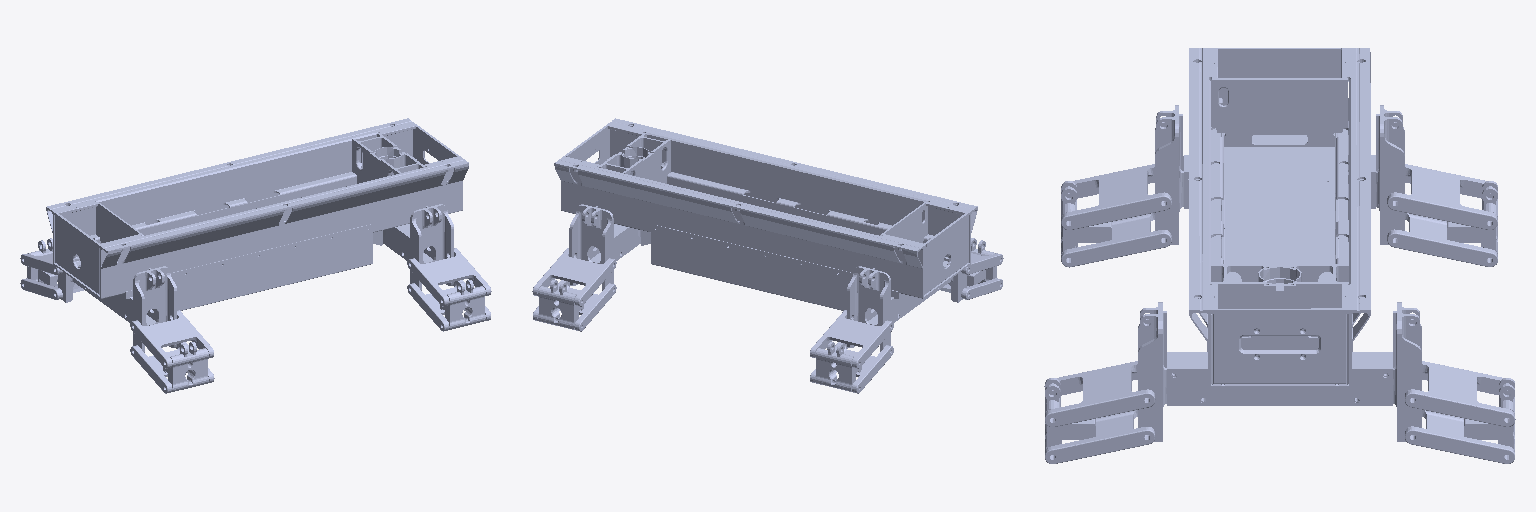
The robot description file, URDF, robot "segwayrmp_description":
<?xml version="1.0" encoding="utf-8"?>
<!-- This URDF was automatically created by SolidWorks to URDF Exporter! Originally created by [author] ([email redacted]) 
     Commit Version: 1.5.1-0-g916b5db  Build Version: 1.5.7152.31018
     For more information, please see http://wiki.ros.org/sw_urdf_exporter -->
<robot
  name="segwayrmp_description">
  <link name="base_link"/>
  <link
    name="Chassis_body">
    <inertial>
      <origin
        xyz="-0.033482 0.22487 0.0057368"
        rpy="0 0 1.57" />
      <mass
        value="1.5192" />
      <inertia
        ixx="0.048829"
        ixy="1.5025E-05"
        ixz="1.729E-06"
        iyy="0.0069994"
        iyz="-0.002399"
        izz="0.052057" />
    </inertial>
    <visual>
      <origin
        xyz="0 0 0"
        rpy="0 0 0" />
      <geometry>
        <mesh
          filename="package://segwayrmp_description/meshes/Chassis_body.STL" />
      </geometry>
      <material
        name="">
        <color
          rgba="0.79216 0.81961 0.93333 1" />
      </material>
    </visual>
    <collision>
      <origin
        xyz="0 0 0"
        rpy="0 0 0" />
      <geometry>
        <mesh
          filename="package://segwayrmp_description/meshes/Chassis_body.STL" />
      </geometry>
    </collision>
  </link>
  <joint name="base_joint" type="fixed">
    <origin xyz="0 0 0" rpy="0 0 -1.57" />
    <parent link="base_link"/>
    <child link="Chassis_body"/>
  </joint>

  <link
    name="Left_rear_wheel">
    <inertial>
      <origin
        xyz="-7.8407E-07 -2.4326E-05 0.002005"
        rpy="0 0 0" />
      <mass
        value="1.3121" />
      <inertia
        ixx="0.004883"
        ixy="-2.8757E-07"
        ixz="-1.4658E-07"
        iyy="0.0048836"
        iyz="-5.3568E-08"
        izz="0.0087354" />
    </inertial>
    <visual>
      <origin
        xyz="0 0 0"
        rpy="0 0 0" />
      <geometry>
        <mesh
          filename="package://segwayrmp_description/meshes/Wheel.STL" />
      </geometry>
      <material
        name="">
        <color
          rgba="0.79216 0.81961 0.93333 1" />
      </material>
    </visual>
    <collision>
      <origin
        xyz="0 0 0"
        rpy="0 0 0" />
      <geometry>
        <mesh
          filename="package://segwayrmp_description/meshes/Wheel.STL" />
      </geometry>
    </collision>
  </link>
  <joint
    name="Left_rear_wheel"
    type="continuous">
    <origin
      xyz="-0.30884 0.04815 -0.080406"
      rpy="1.5708 0 1.5708" />
    <parent
      link="Chassis_body" />
    <child
      link="Left_rear_wheel" />
    <axis
      xyz="0 0 -1" />
  </joint>
  <link
    name="Right_rear_wheel">
    <inertial>
      <origin
        xyz="4.9952E-06 2.3117E-05 0.0019578"
        rpy="0 0 0" />
      <mass
        value="1.313" />
      <inertia
        ixx="0.0048865"
        ixy="3.201E-07"
        ixz="1.7545E-07"
        iyy="0.0048869"
        iyz="-2.3207E-07"
        izz="0.0087402" />
    </inertial>
    <visual>
      <origin
        xyz="0 0 0"
        rpy="0 0 0" />
      <geometry>
        <mesh
          filename="package://segwayrmp_description/meshes/Wheel.STL" />
      </geometry>
      <material
        name="">
        <color
          rgba="0.79216 0.81961 0.93333 1" />
      </material>
    </visual>
    <collision>
      <origin
        xyz="0 0 0"
        rpy="0 0 0" />
      <geometry>
        <mesh
          filename="package://segwayrmp_description/meshes/Wheel.STL" />
      </geometry>
    </collision>
  </link>
  <joint
    name="Right_rear_wheel"
    type="continuous">
    <origin
      xyz="0.24188 0.04815 -0.080406"
      rpy="1.5708 0 -1.5708" />
    <parent
      link="Chassis_body" />
    <child
      link="Right_rear_wheel" />
    <axis
      xyz="0 0 -1" />
  </joint>
  <link
    name="Chassis_front_beam">
    <inertial>
      <origin
        xyz="-8.6161E-10 3.9501E-05 0.0062593"
        rpy="0 0 0" />
      <mass
        value="0.48416" />
      <inertia
        ixx="0.00050823"
        ixy="-1.2209E-08"
        ixz="4.3336E-11"
        iyy="0.0023652"
        iyz="2.6588E-07"
        izz="0.0023821" />
    </inertial>
    <visual>
      <origin
        xyz="0 0 0"
        rpy="0 0 0" />
      <geometry>
        <mesh
          filename="package://segwayrmp_description/meshes/Chassis_front_beam.STL" />
      </geometry>
      <material
        name="">
        <color
          rgba="0.79216 0.81961 0.93333 1" />
      </material>
    </visual>
    <collision>
      <origin
        xyz="0 0 0"
        rpy="0 0 0" />
      <geometry>
        <mesh
          filename="package://segwayrmp_description/meshes/Chassis_front_beam.STL" />
      </geometry>
    </collision>
  </link>
  <joint
    name="Chassis_front_beam"
    type="revolute">
    <origin
      xyz="-0.0335 0.504 -0.0515"
      rpy="0 0 0" />
    <parent
      link="Chassis_body" />
    <child
      link="Chassis_front_beam" />
    <axis
      xyz="0 0 1" />
    <limit
      lower="-3.14"
      upper="3.14"
      effort="0"
      velocity="0" />
  </joint>
  <link
    name="Left_front_wheel">
    <inertial>
      <origin
        xyz="-7.0112E-05 8.4133E-05 0.54476"
        rpy="0 0 0" />
      <mass
        value="1.2504" />
      <inertia
        ixx="0.0046772"
        ixy="1.3239E-07"
        ixz="2.8374E-07"
        iyy="0.0046777"
        iyz="1.339E-07"
        izz="0.0086591" />
    </inertial>
    <visual>
      <origin
        xyz="0 0 0"
        rpy="0 0 0" />
      <geometry>
        <mesh
          filename="package://segwayrmp_description/meshes/Wheel.STL" />
      </geometry>
      <material
        name="">
        <color
          rgba="0.79216 0.81961 0.93333 1" />
      </material>
    </visual>
    <collision>
      <origin
        xyz="0 0 0"
        rpy="0 0 0" />
      <geometry>
        <mesh
          filename="package://segwayrmp_description/meshes/Wheel.STL" />
      </geometry>
    </collision>
  </link>
  <joint
    name="Left_front_wheel"
    type="continuous">
    <origin
      xyz="0.27184 0.0001 -0.028906"
      rpy="1.5708 0 -1.5708" />
    <parent
      link="Chassis_front_beam" />
    <child
      link="Left_front_wheel" />
    <axis
      xyz="0 0 -1" />
  </joint>
  <link
    name="Right_front_wheel">
    <inertial>
      <origin
        xyz="-7.0038E-05 8.4129E-05 0.54476"
        rpy="0 0 0" />
      <mass
        value="1.2504" />
      <inertia
        ixx="0.0046772"
        ixy="1.3959E-07"
        ixz="2.8223E-07"
        iyy="0.0046777"
        iyz="1.3406E-07"
        izz="0.0086591" />
    </inertial>
    <visual>
      <origin
        xyz="0 0 0"
        rpy="0 0 0" />
      <geometry>
        <mesh
          filename="package://segwayrmp_description/meshes/Wheel.STL" />
      </geometry>
      <material
        name="">
        <color
          rgba="0.79216 0.81961 0.93333 1" />
      </material>
    </visual>
    <collision>
      <origin
        xyz="0 0 0"
        rpy="0 0 0" />
      <geometry>
        <mesh
          filename="package://segwayrmp_description/meshes/Wheel.STL" />
      </geometry>
    </collision>
  </link>
  <joint
    name="Right_front_wheel"
    type="continuous">
    <origin
      xyz="-0.27184 0.0001 -0.028906"
      rpy="1.5708 0 1.5708" />
    <parent
      link="Chassis_front_beam" />
    <child
      link="Right_front_wheel" />
    <axis
      xyz="0 0 -1" />
  </joint>
  <!-- 3D LIDAR ON TOP OF ROBOT -->
  <link name="lidar_link">
  <visual>
    <origin xyz="0 0 0" rpy="1.5708 0 3.1416"/>
    <geometry>
        <mesh filename="package://segwayrmp_description/meshes/mid360.stl" scale="0.001 0.001 0.001" />
    </geometry>
    <material name="gray">
      <color rgba="0.7 0.7 0.7 1"/>
    </material>
  </visual>
  <collision>
    <origin xyz="0 0 0" rpy="1.5708 0 3.1416"/>
    <geometry>
        <mesh filename="package://segwayrmp_description/meshes/mid360.stl" scale="0.001 0.001 0.001"/>
    </geometry>
  </collision>
  </link>
  <!--
  <joint name="lidar_joint" type="fixed">
    <parent link="Chassis_body"/>
    <child link="lidar_link"/>
    <origin xyz="-0.0335 0.276075 0.22" rpy="0 0 1.5708"/>  (X is correct) Y (dist from back till lidar front axis - rear_wheel /2 = (0.504-0.04815)/2 + 0.04815=) Z (TODO: set hieght) with LiDAR pose. Robtation needs to be set.  
  </joint>
  -->
  
  <joint name="lidar_joint2" type="fixed">
    <parent link="base_link"/>
    <child link="lidar_link"/>
    <origin xyz="0.276075 0.0335 0.22" rpy="0 0 0"/>  <!-- (X is correct) Y (dist from back till lidar front axis - rear_wheel /2 = (0.504-0.04815)/2 + 0.04815=) Z (TODO: set hieght) with LiDAR pose. Robtation needs to be set.  THIS IS USED BY SLAM -->
  </joint>

  <!-- ZED CAMERA ON TOP OF ROBOT -->
  <link name="zed_camera_link">
  <visual>
    <origin xyz="0 0 0" rpy="1.5708 0 1.5708"/>
    <geometry>
        <mesh filename="package://segwayrmp_description/meshes/ZEDX.stl" scale="0.001 0.001 0.001" />
    </geometry>
    <material name="gray">
      <color rgba="0.7 0.7 0.7 1"/>
    </material>
  </visual>
  <collision>
    <origin xyz="0 0 0" rpy="1.5708 0 1.5708"/>
    <geometry>
        <mesh filename="package://segwayrmp_description/meshes/ZEDX.stl" scale="0.001 0.001 0.001"/>
    </geometry>
  </collision>
  </link>
  <joint name="camera_joint" type="fixed">
    <parent link="Chassis_body"/>
    <child link="zed_camera_link"/>
    <origin xyz="-0.0335 0.500 0.15" rpy="0 -0.297 1.5708"/>  <!-- (X is correct) Y   Z.  Angle: 17 deg == 0.297  -->
  </joint>
</robot>


--- Render facts (derived) ---
The picture shows the robot from 3 angles, left to right: view 1: azimuth 30°, elevation 25°; view 2: azimuth 150°, elevation 25°; view 3: azimuth 270°, elevation 25°; orthographic projection.
Model segwayrmp_description with 9 links and 8 joints (1 revolute, 4 continuous, 3 fixed), rooted at base_link, posed all joints at 0.
Links seen in each view (by area): view 1: Chassis_body, Chassis_front_beam; view 2: Chassis_body, Chassis_front_beam; view 3: Chassis_body, Chassis_front_beam.
Link boxes in pixels (x1,y1,x2,y2): Chassis_body: [20, 118, 468, 393]; Chassis_front_beam: [383, 204, 491, 331]; Chassis_body: [554, 118, 1003, 393]; Chassis_front_beam: [532, 204, 640, 331]; Chassis_body: [1061, 48, 1497, 388]; Chassis_front_beam: [1044, 283, 1515, 463].
Bounding box of the posed robot: 0.6081 × 0.4607 × 0.1874 m (x, y, z).
2 mesh visuals loaded from 5 distinct referenced files (2 binary STL); not drawn: 6 (reference not matched to a file when rendering).